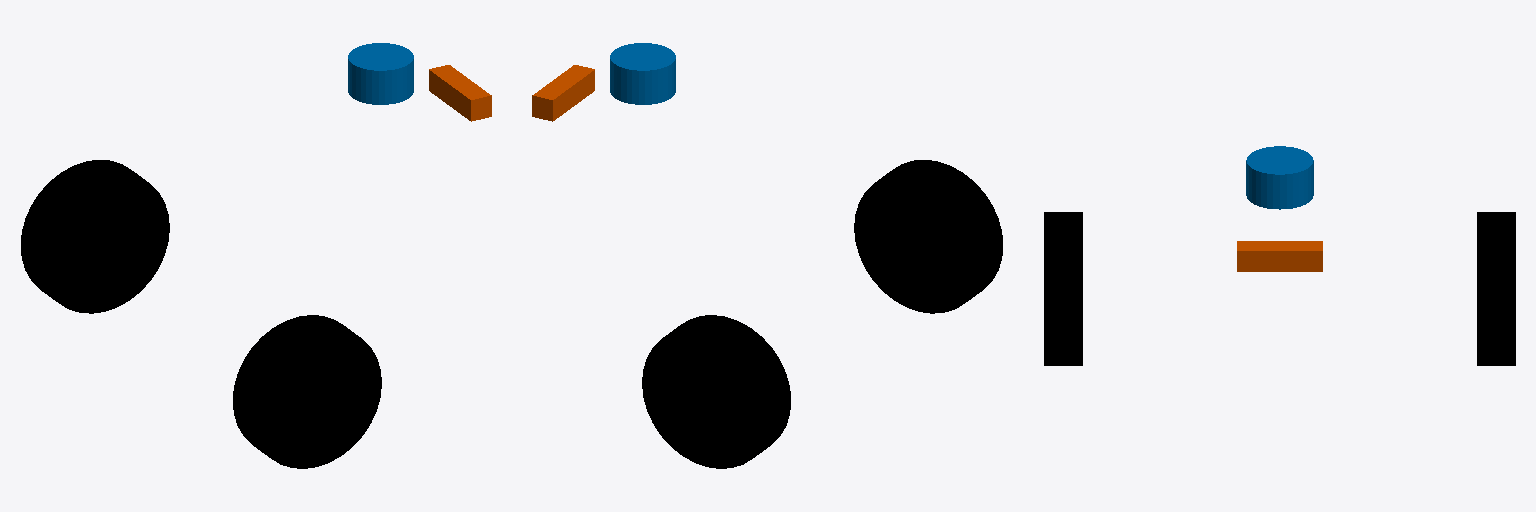
URDF robot description (xxx):
<?xml version="1.0" ?>
<!-- =================================================================================== -->
<!-- |    This document was autogenerated by xacro from src/xxx_description/robot/xxx.xacro | -->
<!-- |    EDITING THIS FILE BY HAND IS NOT RECOMMENDED                                 | -->
<!-- =================================================================================== -->
<robot name="xxx">
  <!-- Read in the yaml dict as mp (short for model parameters) -->
  <link name="base_link">
    <visual>
      <origin rpy="0.0 0.0 1.5707963267948966" xyz="0.0 0.0 -0.018"/>
      <geometry>
        <mesh filename="package://xxx_description/meshes/coconut.stl"/>
      </geometry>
      <material name="chassis_color">
        <color rgba="1 1 1 1"/>
      </material>
    </visual>
  </link>
  <link name="base_footprint"/>
  <joint name="base_offset" type="fixed">
    <parent link="base_footprint"/>
    <child link="base_link"/>
    <origin xyz="0.0 0.0 0.165"/>
  </joint>
  <link name="left_wheel">
    <visual>
      <origin rpy="0.0 0.0 0.0" xyz="0.0 0.0 0.0"/>
      <geometry>
        <cylinder length="0.04" radius="0.08"/>
      </geometry>
      <material name="left_wheel_color">
        <color rgba="0 0 0 1"/>
      </material>
    </visual>
  </link>
  <joint name="left_wheel_joint" type="continuous">
    <origin rpy="-1.5707963267948966 0.0 0.0" xyz="0.0 0.225 -0.085"/>
    <parent link="base_link"/>
    <child link="left_wheel"/>
    <axis xyz="0.0 0.0 1.0"/>
    <joint_properties damping="1.0" friction="1.0"/>
  </joint>
  <link name="right_wheel">
    <visual>
      <origin rpy="0.0 0.0 0.0" xyz="0.0 0.0 0.0"/>
      <geometry>
        <cylinder length="0.04" radius="0.08"/>
      </geometry>
      <material name="right_wheel_color">
        <color rgba="0 0 0 1"/>
      </material>
    </visual>
  </link>
  <joint name="right_wheel_joint" type="continuous">
    <origin rpy="-1.5707963267948966 0.0 0.0" xyz="0.0 -0.225 -0.085"/>
    <parent link="base_link"/>
    <child link="right_wheel"/>
    <axis xyz="0.0 0.0 1.0"/>
    <joint_properties damping="1.0" friction="1.0"/>
  </joint>
  <link name="lidar_link">
    <visual>
      <geometry>
        <cylinder length="0.04" radius="0.035"/>
      </geometry>
    </visual>
  </link>
  <joint name="lidar_mount" type="fixed">
    <origin xyz="0.22 0.0 0.145"/>
    <parent link="base_link"/>
    <child link="lidar_link"/>
  </joint>
  <link name="camera_link">
    <visual>
      <origin rpy="0 0 0" xyz="0 0 0"/>
      <geometry>
        <box size="0.025 0.09 0.025"/>
      </geometry>
    </visual>
  </link>
  <link name="camera_optical"/>
  <joint name="camera_joint" type="fixed">
    <parent link="base_link"/>
    <child link="camera_link"/>
    <origin xyz="0.317 0 0.1"/>
  </joint>
  <joint name="camera_optical_mount" type="fixed">
    <parent link="camera_link"/>
    <child link="camera_optical"/>
    <origin rpy="-1.5707963267948966 0 -1.5707963267948966" xyz="0 0 0"/>
  </joint>
  <link name="imu_link"/>
  <joint name="imu_mount" type="fixed">
    <parent link="base_link"/>
    <child link="imu_link"/>
    <origin rpy="0 0 0" xyz="0 0 0"/>
  </joint>
</robot>

--- Render facts (derived) ---
The picture shows the robot from 3 angles, left to right: view 1: azimuth 30°, elevation 25°; view 2: azimuth 150°, elevation 25°; view 3: azimuth 270°, elevation 25°; orthographic projection.
Model xxx with 8 links and 7 joints (2 continuous, 5 fixed), rooted at base_footprint, posed every joint at zero.
Visible links, largest first — view 1: right_wheel, left_wheel, lidar_link, camera_link; view 2: left_wheel, right_wheel, lidar_link, camera_link; view 3: left_wheel, right_wheel, lidar_link, camera_link.
Boxes of the visible links, x1,y1,x2,y2 form: right_wheel: [233, 315, 381, 468]; left_wheel: [21, 160, 169, 313]; lidar_link: [348, 43, 413, 104]; camera_link: [429, 65, 491, 121]; left_wheel: [642, 315, 790, 468]; right_wheel: [854, 160, 1002, 313]; lidar_link: [610, 43, 675, 104]; camera_link: [532, 65, 594, 121]; left_wheel: [1477, 212, 1515, 365]; right_wheel: [1044, 212, 1082, 365]; lidar_link: [1246, 146, 1313, 209]; camera_link: [1237, 241, 1322, 271].
Bounding box of the posed robot: 0.4095 × 0.49 × 0.33 m (x, y, z).
Meshes: 1 distinct files referenced, 0 mesh visuals loaded (none loaded); not drawn: 1 (reference not matched to a file when rendering).